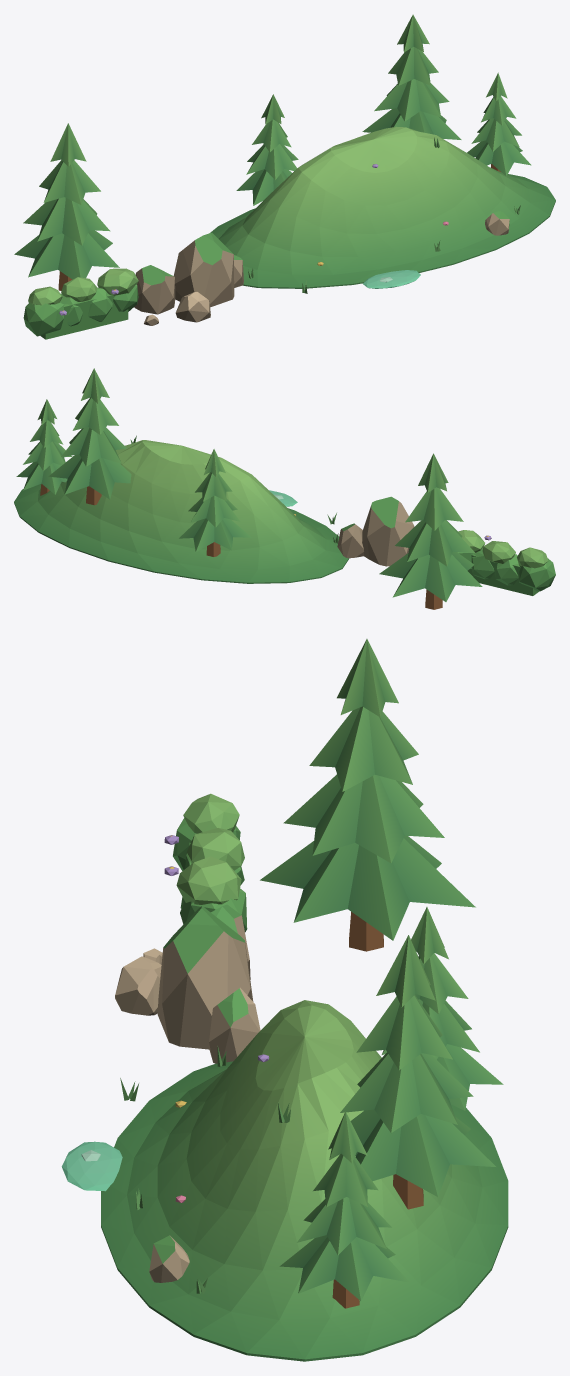
Rendered from ranch_border_chunk_b_m.fbx.
3 renders of one model, top to bottom at view 1: azimuth 30°, elevation 25°; view 2: azimuth 150°, elevation 25°; view 3: azimuth 270°, elevation 25°, orthographic. The views are drawn at different scales.
Parts seen in each view (by area): view 1: ranch_border_chunk_b_m; view 2: ranch_border_chunk_b_m; view 3: ranch_border_chunk_b_m.
Boxes of the visible parts, box(x1,y1,x2,y2) form: ranch_border_chunk_b_m: box(14, 14, 555, 339); ranch_border_chunk_b_m: box(14, 368, 555, 609); ranch_border_chunk_b_m: box(61, 639, 508, 1361).
Bounding box in the file's own units: 56.89 × 17.81 × 21.72.
